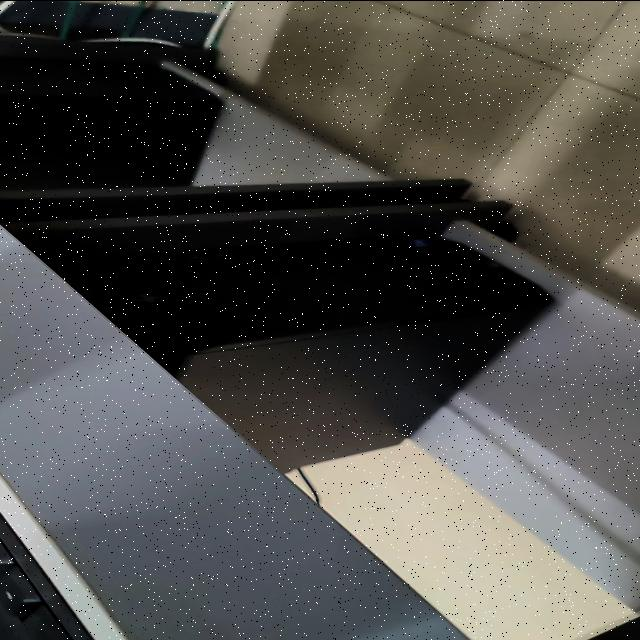Cpu: (76, 233, 552, 470), (0, 56, 222, 189)
Keyboard: (0, 512, 94, 640)
